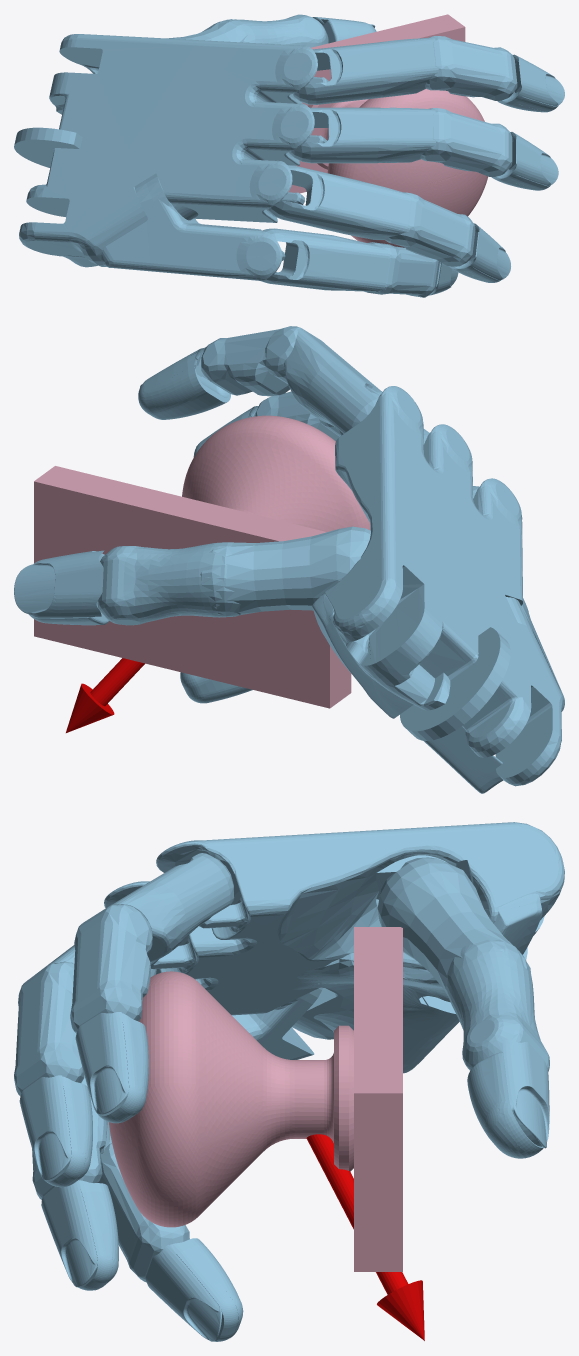
3 renders of one model, top to bottom at view 1: azimuth 30°, elevation 25°; view 2: azimuth 150°, elevation 25°; view 3: azimuth 270°, elevation 25°, orthographic. The views are drawn at different scales.
Parts seen in each view (by area): view 1: world, door_knob.stl; view 2: world, door_knob.stl; view 3: world, door_knob.stl.
Boxes of the visible parts, bbox=[...] form: world: bbox=[14, 14, 564, 297]; door_knob.stl: bbox=[288, 14, 487, 247]; world: bbox=[14, 326, 564, 793]; door_knob.stl: bbox=[34, 415, 370, 708]; world: bbox=[14, 822, 564, 1341]; door_knob.stl: bbox=[109, 927, 402, 1271].
Size of the model in its own units: 0.1824 by 0.1138 by 0.1398.
